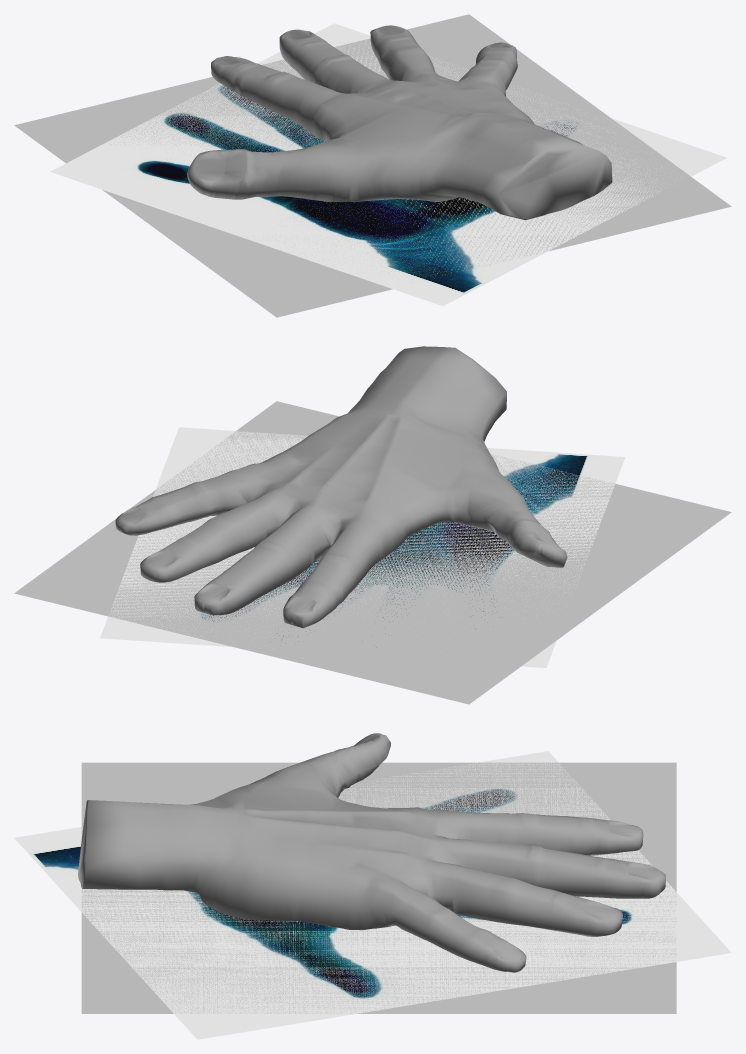
File: Rt_Hand_v2_6s.obj
The picture shows the model from 3 angles, top to bottom: view 1: azimuth 30°, elevation 25°; view 2: azimuth 150°, elevation 25°; view 3: azimuth 270°, elevation 25°; orthographic projection. The views are drawn at different scales.
Visible parts, largest first — view 1: Rt_Hand_Mesh, hand2d.001, plane_Cube; view 2: plane_Cube, Rt_Hand_Mesh, hand2d.001; view 3: Rt_Hand_Mesh, plane_Cube, hand2d.001.
Boxes of the visible parts, box(x1,y1,x2,y2) form: Rt_Hand_Mesh: box(187, 25, 612, 220); hand2d.001: box(50, 23, 726, 305); plane_Cube: box(14, 14, 731, 317); plane_Cube: box(14, 401, 731, 704); Rt_Hand_Mesh: box(115, 346, 567, 628); hand2d.001: box(100, 427, 625, 667); Rt_Hand_Mesh: box(78, 733, 665, 972); plane_Cube: box(81, 762, 676, 1013); hand2d.001: box(14, 751, 731, 1039).
Size of the model in its own units: 236 by 43.23 by 248.
3 materials, 1 textured.
